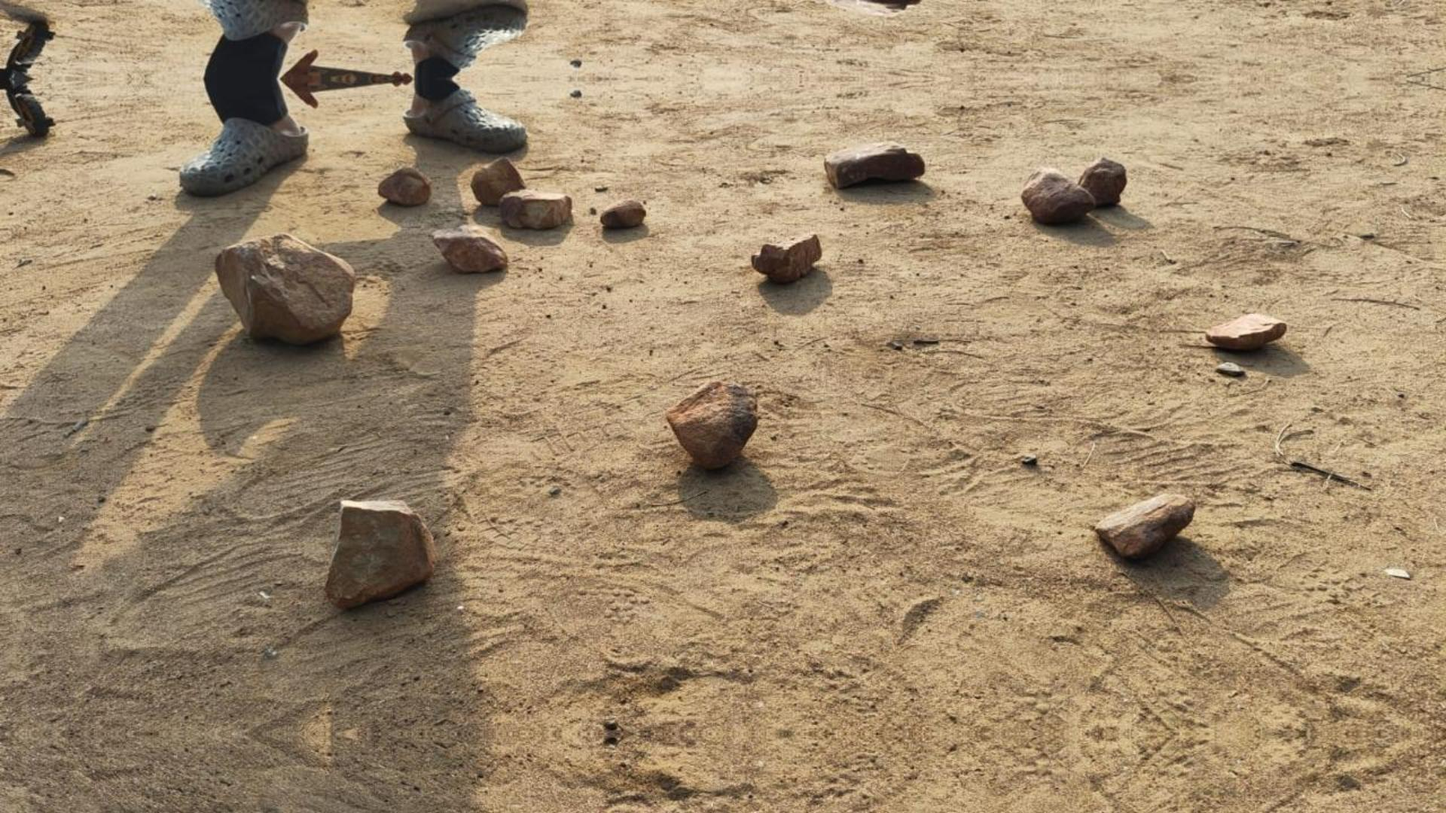rock: (215, 234, 355, 343), (325, 500, 435, 607), (665, 381, 757, 469), (1094, 493, 1195, 558), (825, 142, 924, 187), (1021, 167, 1095, 222), (432, 225, 507, 272), (751, 233, 821, 282), (1205, 313, 1286, 350), (499, 190, 572, 228), (471, 157, 523, 206), (1078, 157, 1126, 206), (377, 166, 430, 206), (828, 0, 920, 16), (600, 199, 646, 228), (473, 0, 528, 9)
